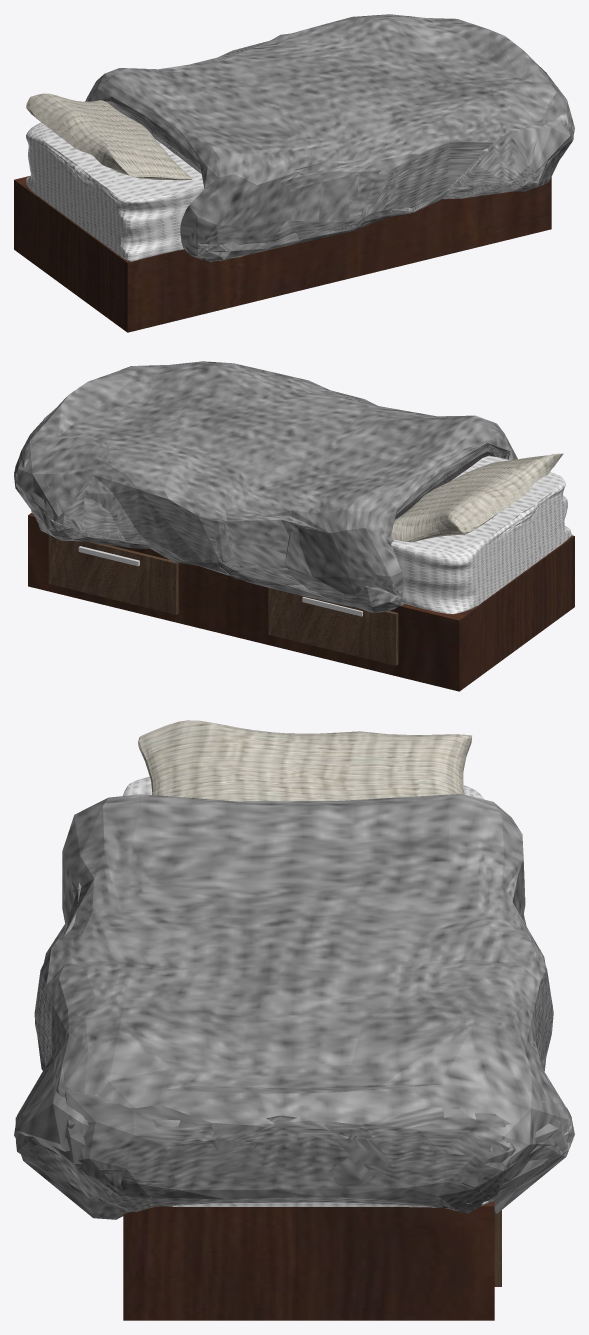
File: Bed.fbx
3 views of the same model, one above another, from view 1: azimuth 30°, elevation 25°; view 2: azimuth 150°, elevation 25°; view 3: azimuth 270°, elevation 25° (orthographic). The views are drawn at different scales.
Visible parts, largest first — view 1: Cube.007, Cube, Cube.001, Cube.006; view 2: Cube.007, Cube, Cube.001, Cube.006, Cube.002, Cube.003, Cube.004; view 3: Cube.007, Cube, Cube.006, Cube.001.
Boxes of the visible parts, left/top/right/bottom form: Cube.007: left=85, top=14, right=574, bottom=262; Cube: left=14, top=176, right=551, bottom=332; Cube.001: left=26, top=122, right=204, bottom=261; Cube.006: left=26, top=93, right=192, bottom=180; Cube.007: left=14, top=361, right=517, bottom=612; Cube: left=28, top=512, right=574, bottom=691; Cube.001: left=31, top=455, right=572, bottom=614; Cube.006: left=390, top=453, right=563, bottom=542; Cube.002: left=48, top=534, right=178, bottom=614; Cube.003: left=268, top=587, right=398, bottom=665; Cube.004: left=78, top=546, right=139, bottom=566; Cube.007: left=14, top=794, right=574, bottom=1219; Cube: left=123, top=1201, right=494, bottom=1320; Cube.006: left=138, top=720, right=471, bottom=801; Cube.001: left=123, top=776, right=488, bottom=1207.
Bounding box in the file's own units: 668 × 228 × 436.
6 materials, 6 textured.
